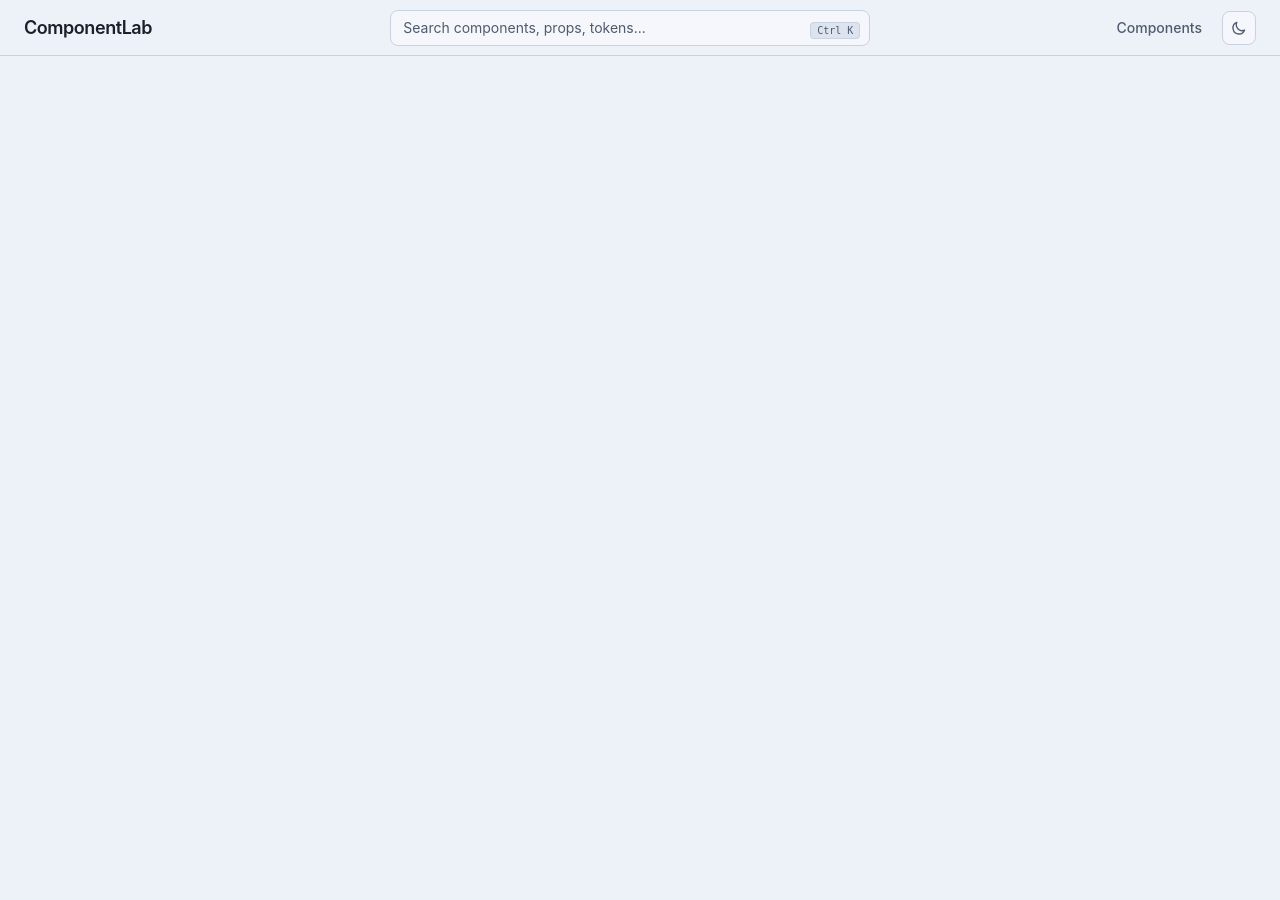
Test: TopBar › toggles theme between light and dark modes, showing moon in light mode and sun in dark mode
The image size is (1280, 900).
Check: the icon with test id "moon-icon" is shown, box x1=1231 y1=20 x2=1247 y2=36
# Click to toggle to dark mode
Click the button named "Switch to dark mode": coordinates (1239, 28) x1=1222 y1=10 x2=1256 y2=44
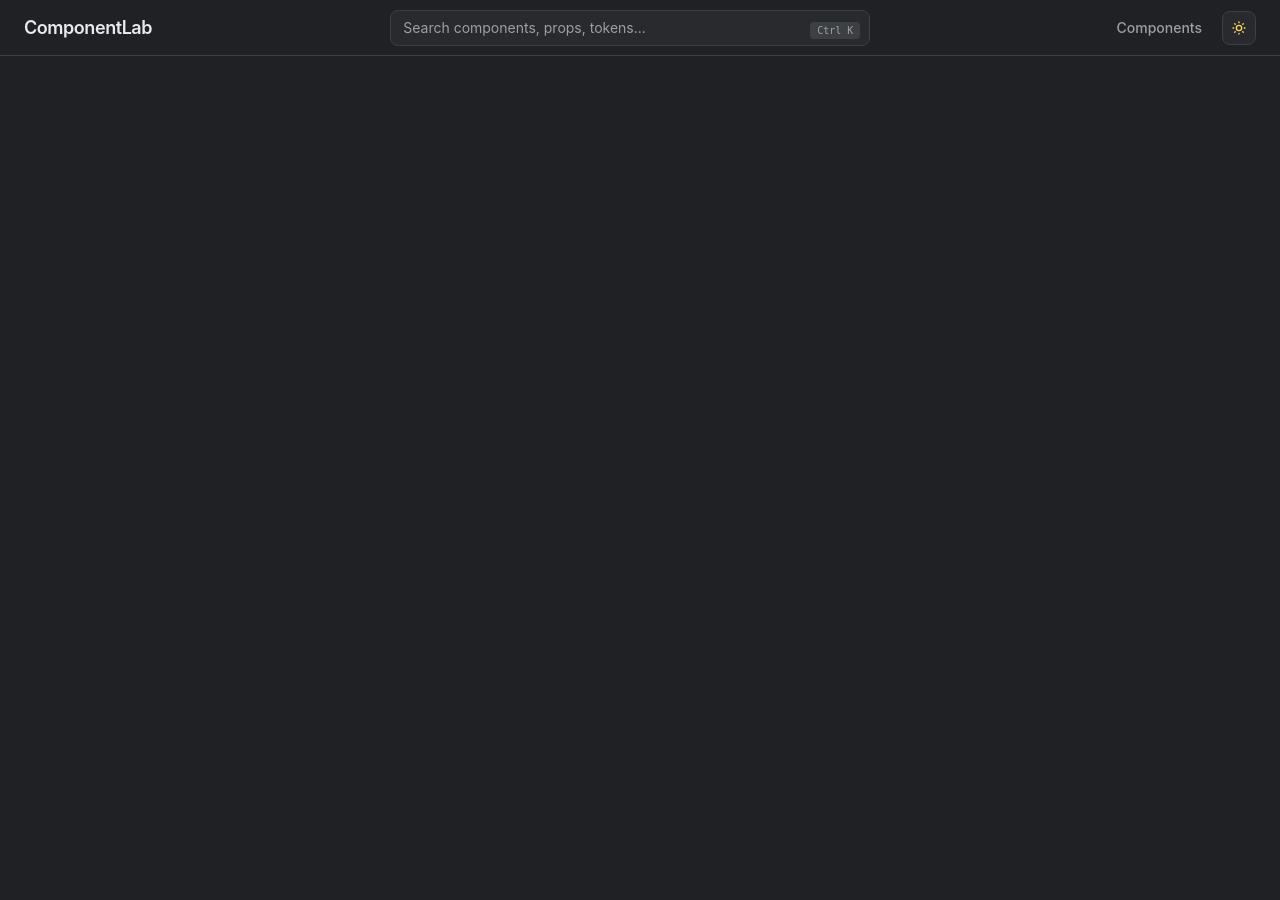
Check: the button named "Switch to light mode" is shown
Check: the icon with test id "sun-icon" is shown, box x1=1231 y1=20 x2=1247 y2=36
# Click again to toggle back to light mode
Click the button named "Switch to light mode": coordinates (1239, 28) x1=1222 y1=10 x2=1256 y2=44
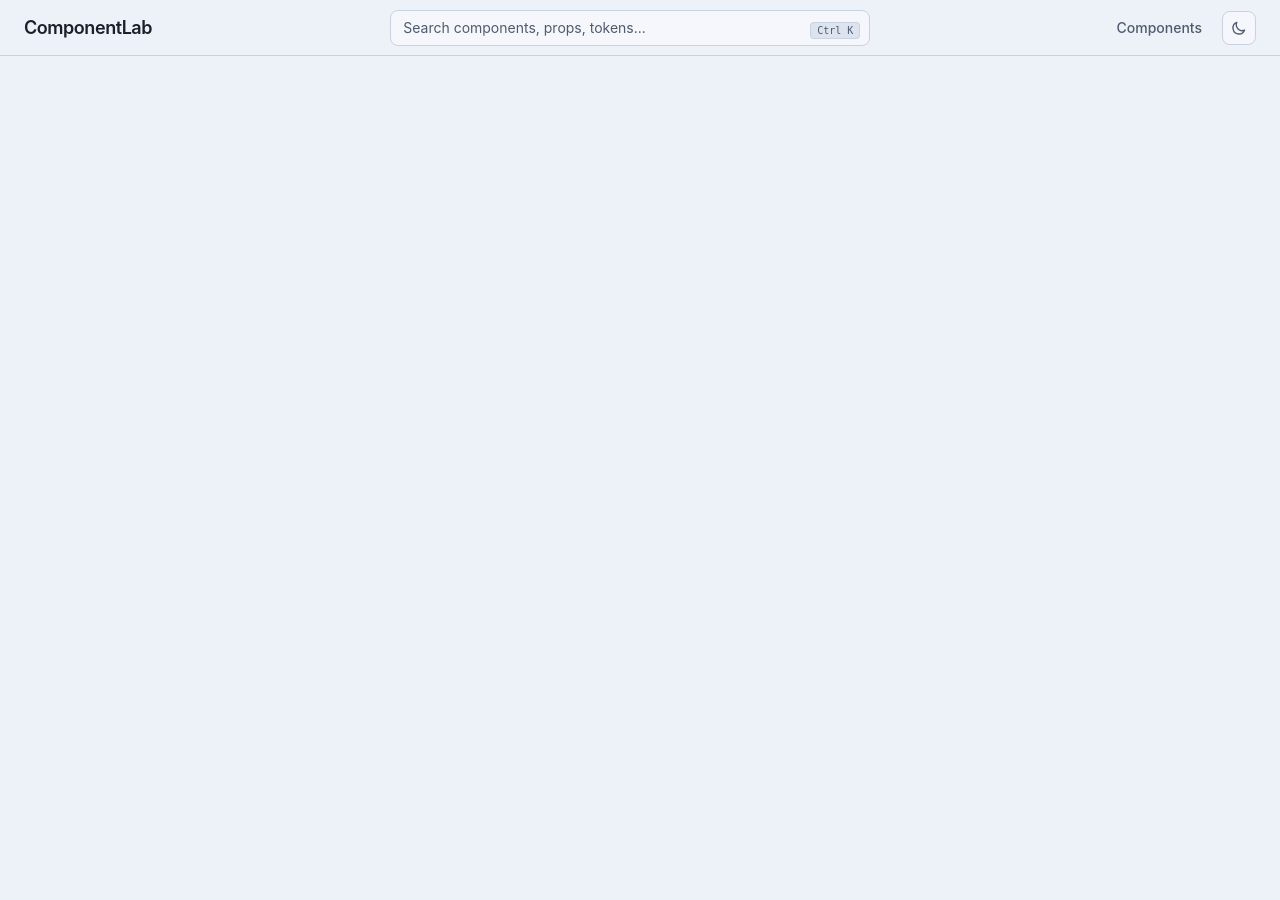
Check: the button named "Switch to dark mode" is shown, box x1=1222 y1=10 x2=1256 y2=44
Check: the icon with test id "moon-icon" is shown, box x1=1231 y1=20 x2=1247 y2=36
